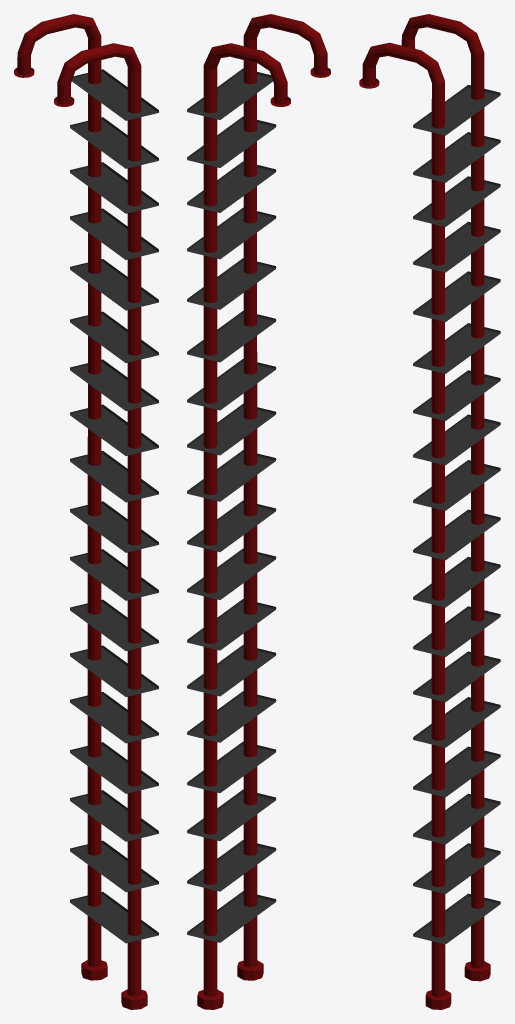
The model's file is Ladder3.fbx.
3 renders of one model, left to right at view 1: azimuth 30°, elevation 25°; view 2: azimuth 150°, elevation 25°; view 3: azimuth 330°, elevation 25°, orthographic.
Parts seen in each view (by area): view 1: Plane.001, Plane.007, Plane.014, Plane.009, Plane.020, Plane.012, Plane.011, Plane.018, Plane.015, Plane.005, Plane.006, Plane.010 (+8 smaller); view 2: Plane.007, Plane.001, Plane.012, Plane.011, Plane.010, Plane.017, Plane.008, Plane.014, Plane.016, Plane.005, Plane.019, Plane.015 (+8 smaller); view 3: Plane.001, Plane.007, Plane.005, Plane.008, Plane.013, Plane.020, Plane.019, Plane.003, Plane.011, Plane.009, Plane.018, Plane.016 (+8 smaller).
Boxes of the visible parts, bbox=[...] form: Plane.001: bbox=[54, 43, 147, 1009]; Plane.007: bbox=[14, 14, 107, 980]; Plane.014: bbox=[70, 599, 158, 650]; Plane.009: bbox=[70, 451, 158, 502]; Plane.020: bbox=[70, 891, 158, 943]; Plane.012: bbox=[70, 311, 158, 362]; Plane.011: bbox=[70, 359, 158, 410]; Plane.018: bbox=[70, 692, 158, 743]; Plane.015: bbox=[70, 840, 158, 891]; Plane.005: bbox=[70, 208, 158, 259]; Plane.006: bbox=[70, 259, 158, 310]; Plane.010: bbox=[70, 404, 158, 455]; Plane.007: bbox=[197, 43, 290, 1009]; Plane.001: bbox=[237, 14, 330, 980]; Plane.012: bbox=[187, 311, 276, 362]; Plane.011: bbox=[187, 359, 276, 410]; Plane.010: bbox=[187, 403, 276, 455]; Plane.017: bbox=[187, 645, 276, 696]; Plane.008: bbox=[187, 500, 276, 551]; Plane.014: bbox=[187, 599, 276, 650]; Plane.016: bbox=[187, 789, 276, 840]; Plane.005: bbox=[187, 207, 276, 259]; Plane.019: bbox=[187, 741, 276, 792]; Plane.015: bbox=[187, 840, 276, 891]; Plane.001: bbox=[359, 42, 451, 1009]; Plane.007: bbox=[401, 14, 490, 981]; Plane.005: bbox=[413, 221, 500, 272]; Plane.008: bbox=[413, 509, 500, 560]; Plane.013: bbox=[413, 556, 500, 607]; Plane.020: bbox=[413, 893, 500, 944]; Plane.019: bbox=[413, 746, 500, 797]; Plane.003: bbox=[413, 132, 500, 182]; Plane.011: bbox=[413, 370, 500, 420]; Plane.009: bbox=[413, 460, 500, 510]; Plane.018: bbox=[413, 697, 500, 747]; Plane.016: bbox=[413, 793, 500, 844].
Size of the model in its own units: 32.11 by 312 by 32.87.
